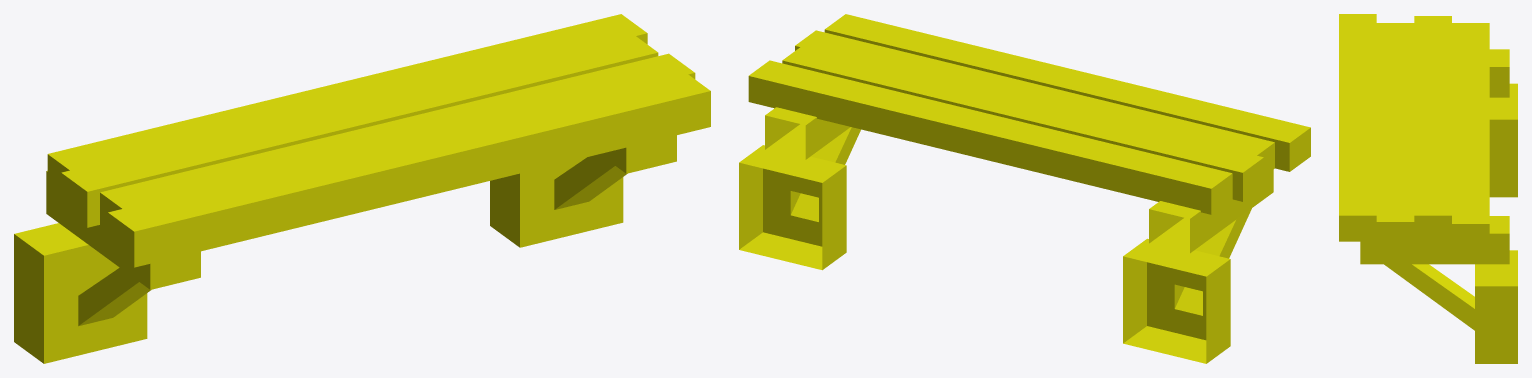
File: m_shelf.fbx
3 renders of one model, left to right at view 1: azimuth 30°, elevation 25°; view 2: azimuth 150°, elevation 25°; view 3: azimuth 270°, elevation 25°, orthographic. The views are drawn at different scales.
Parts seen in each view (by area): view 1: m_shelf; view 2: m_shelf; view 3: m_shelf.
Part boxes in pixels (left/top/right/bottom): m_shelf: left=14, top=14, right=710, bottom=363; m_shelf: left=739, top=14, right=1310, bottom=363; m_shelf: left=1339, top=14, right=1517, bottom=363.
Bounding box in the file's own units: 2.49 × 0.8148 × 0.9081.
